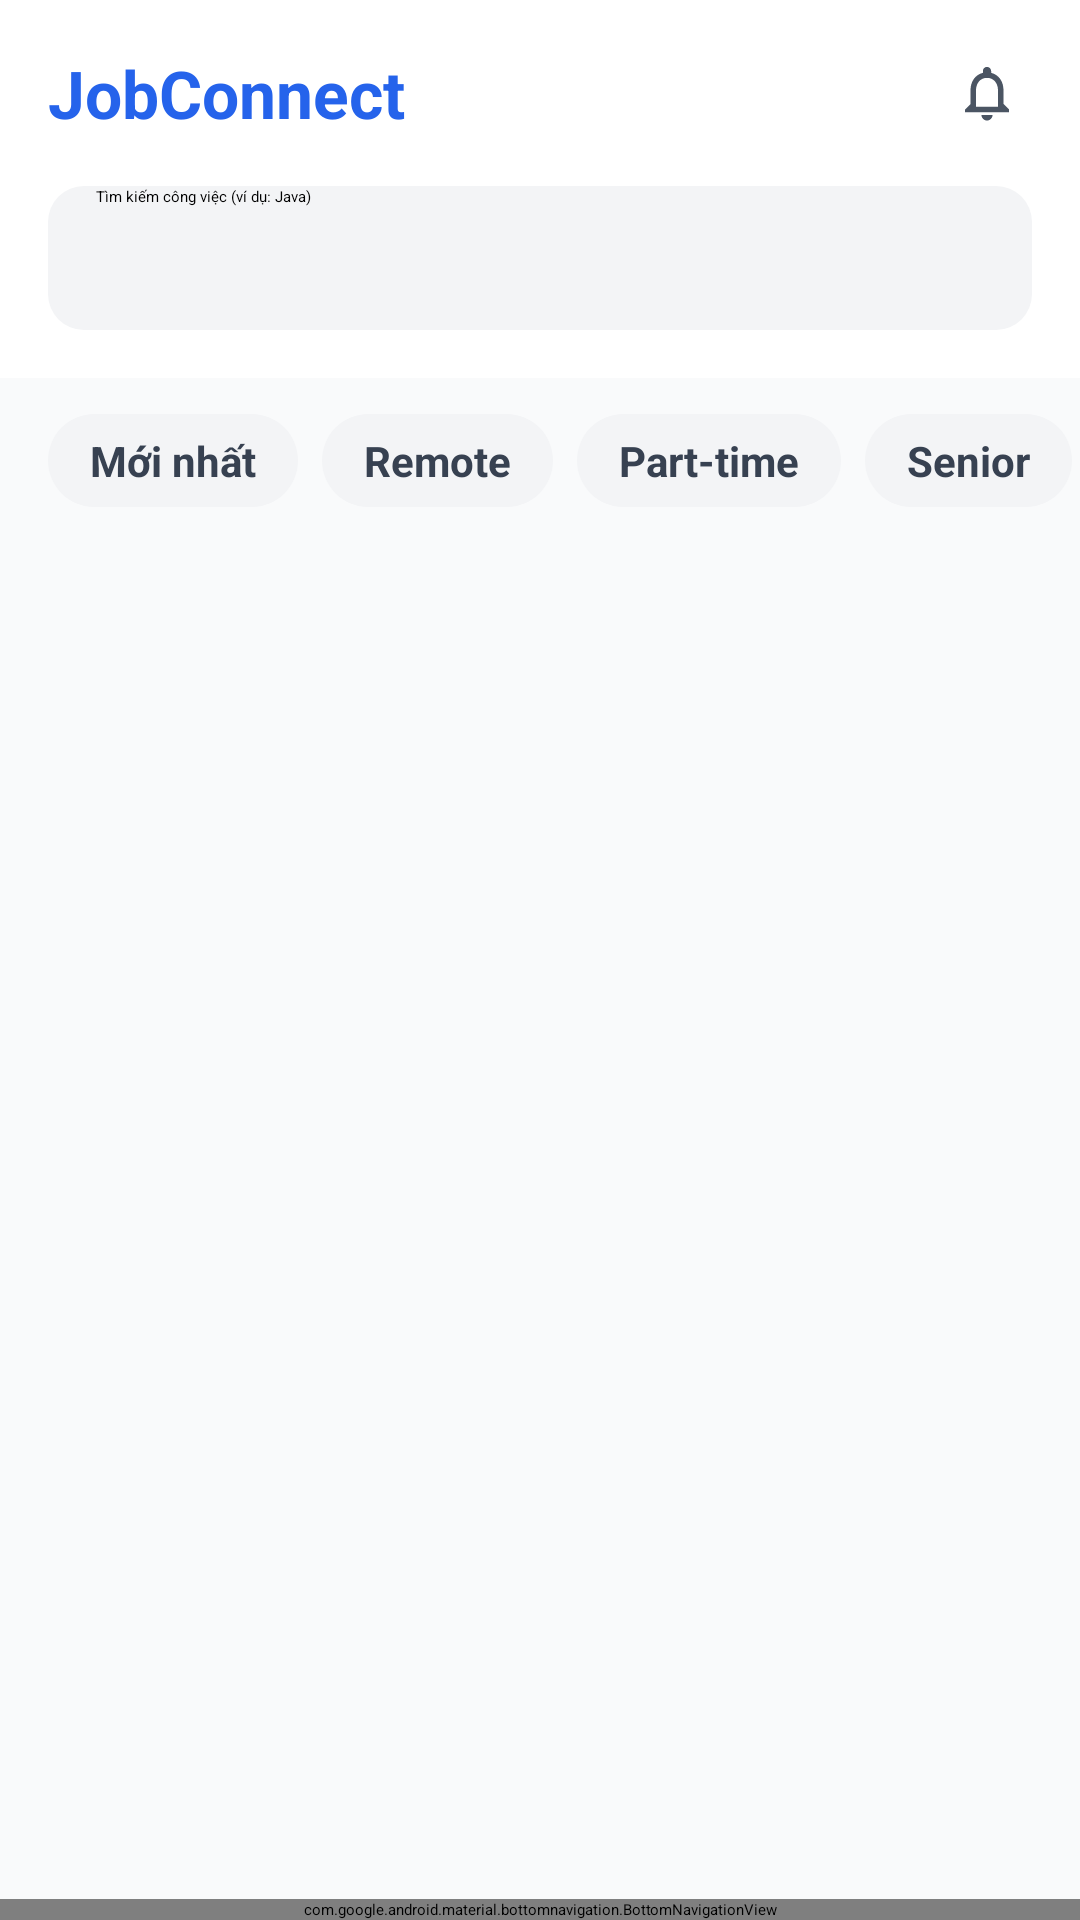

Named icons in this screenshot (1080 x 1920) and their centers, (x=x, y=y):
Notifications: (x=987, y=94)
